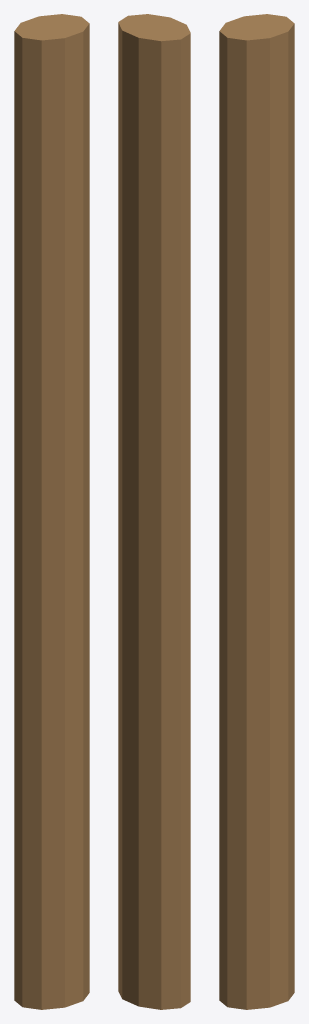
The model's file is cartel_espacio_poste_der_lev4.glb.
3 renders of one model, left to right at view 1: azimuth 90°, elevation 25°; view 2: azimuth 210°, elevation 25°; view 3: azimuth 270°, elevation 25°, orthographic.
Visible parts, largest first — view 1: cartel_espacio_poste_der_lev4; view 2: cartel_espacio_poste_der_lev4; view 3: cartel_espacio_poste_der_lev4.
Boxes of the visible parts, left/top/right/bottom form: cartel_espacio_poste_der_lev4: left=14, top=14, right=89, bottom=1009; cartel_espacio_poste_der_lev4: left=118, top=14, right=190, bottom=1009; cartel_espacio_poste_der_lev4: left=219, top=14, right=294, bottom=1009.
Size of the model in its own units: 0.4462 by 7.61 by 0.5348.
